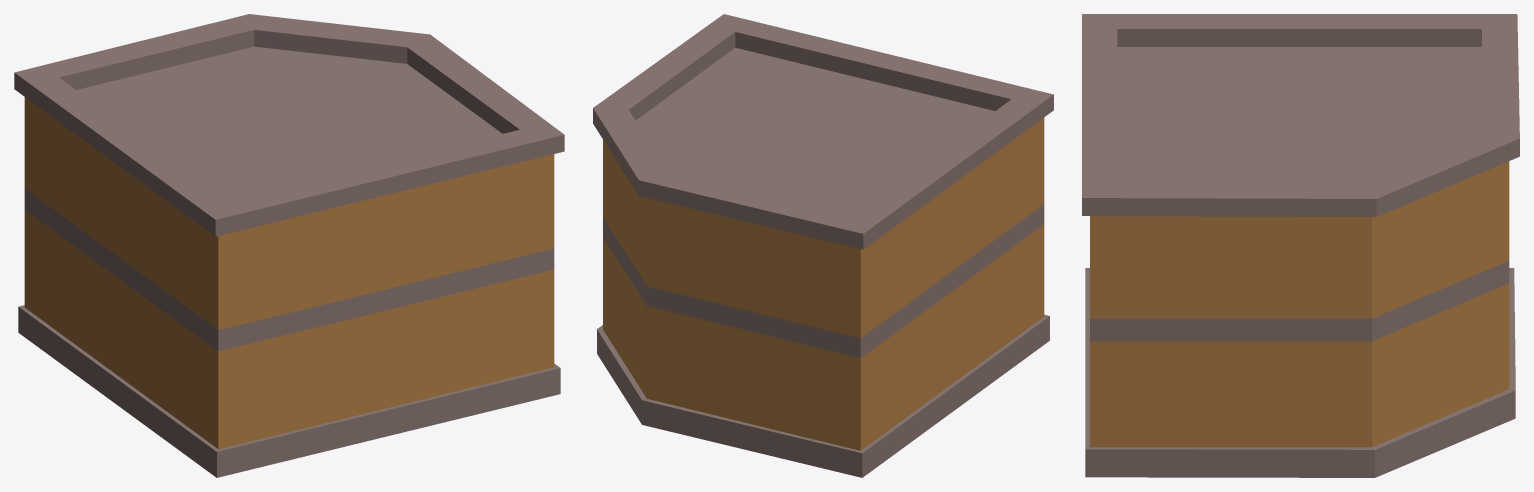
File: Map-Shop-Lv2.fbx
3 renders of one model, left to right at view 1: azimuth 30°, elevation 25°; view 2: azimuth 150°, elevation 25°; view 3: azimuth 270°, elevation 25°, orthographic. The views are drawn at different scales.
Visible parts, largest first — view 1: Map-Shop-Lv2; view 2: Map-Shop-Lv2; view 3: Map-Shop-Lv2.
Part boxes in pixels (box(x1,y1,x2,y2)): Map-Shop-Lv2: box(14, 14, 564, 477); Map-Shop-Lv2: box(593, 14, 1053, 477); Map-Shop-Lv2: box(1082, 14, 1519, 477).
Bounding box in the file's own units: 2.09 × 1.48 × 2.09.
